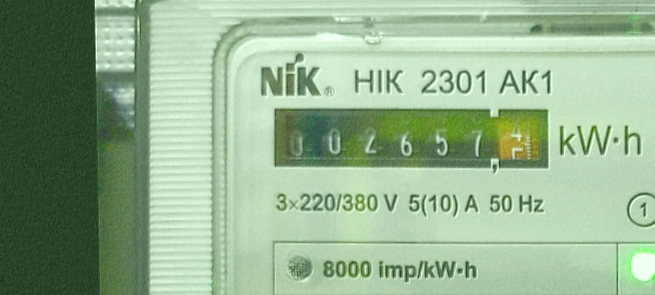0: (326, 126, 342, 156), (288, 129, 305, 157)
2: (362, 126, 379, 155)
4: (509, 117, 524, 142)
5: (434, 127, 450, 158), (509, 146, 525, 160)
6: (399, 128, 413, 158)
7: (470, 127, 485, 159)
screen: (264, 93, 561, 185)
